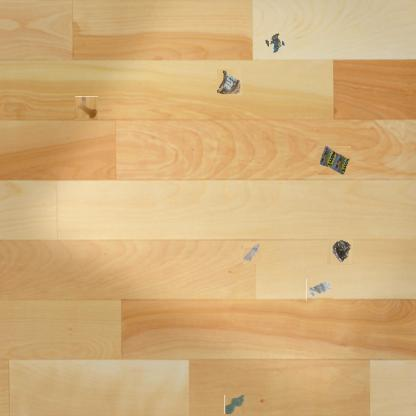dirty: (317, 145, 351, 175), (216, 69, 242, 95), (328, 240, 353, 264), (306, 280, 333, 302), (241, 243, 261, 263), (266, 34, 284, 52)
liquid: (75, 96, 98, 120), (224, 394, 245, 415)
